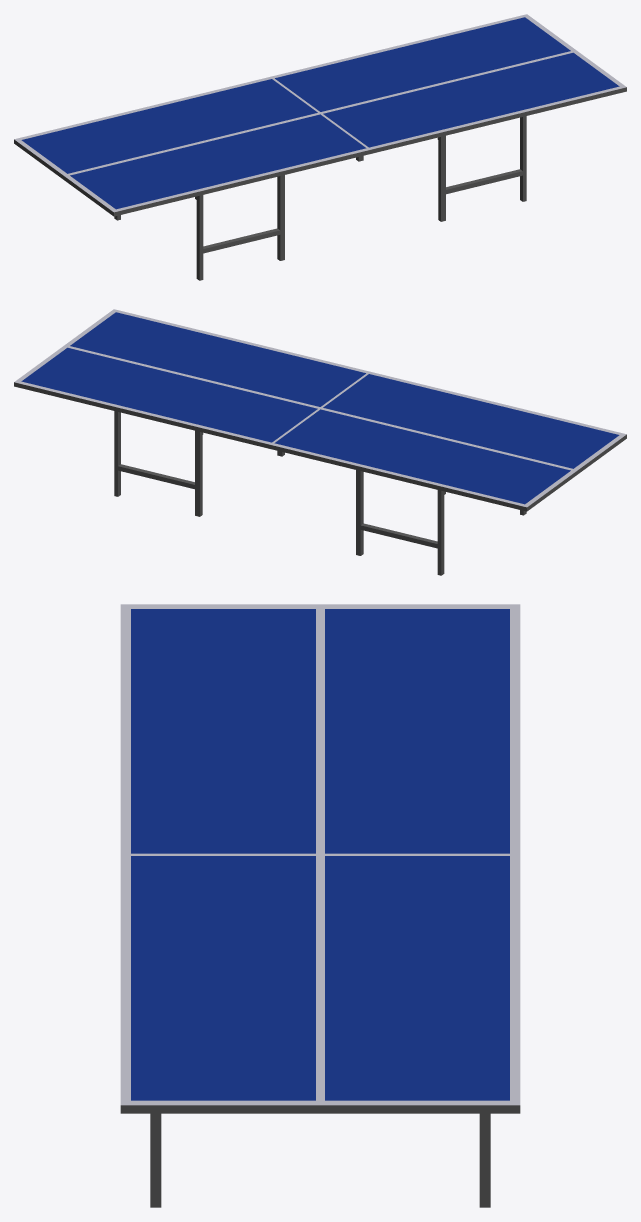
File: galds_by_Liene.fbx
The picture shows the model from 3 angles, top to bottom: view 1: azimuth 30°, elevation 25°; view 2: azimuth 150°, elevation 25°; view 3: azimuth 270°, elevation 25°; orthographic projection. The views are drawn at different scales.
Visible parts, largest first — view 1: Cube; view 2: Cube; view 3: Cube.
Boxes of the visible parts, x1,y1,x2,y2 form: Cube: (14, 14, 626, 280); Cube: (14, 309, 626, 575); Cube: (120, 604, 520, 1207).
Size of the model in its own units: 593 by 107 by 200.
